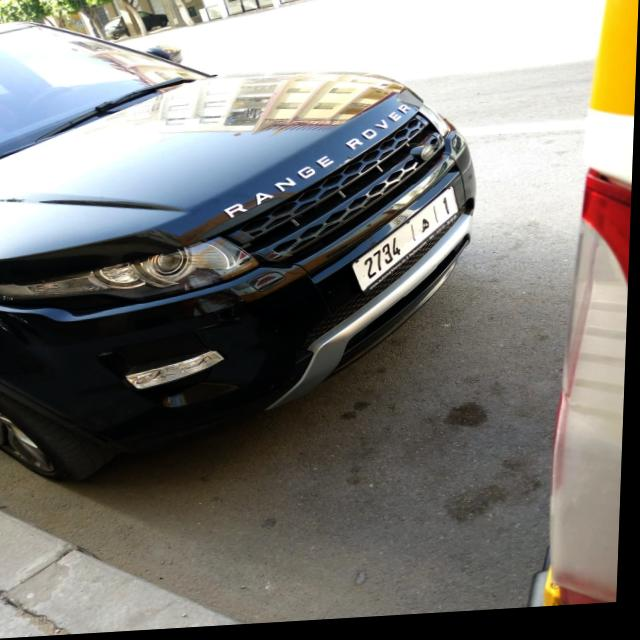License-Plate: (355, 192, 460, 295)
